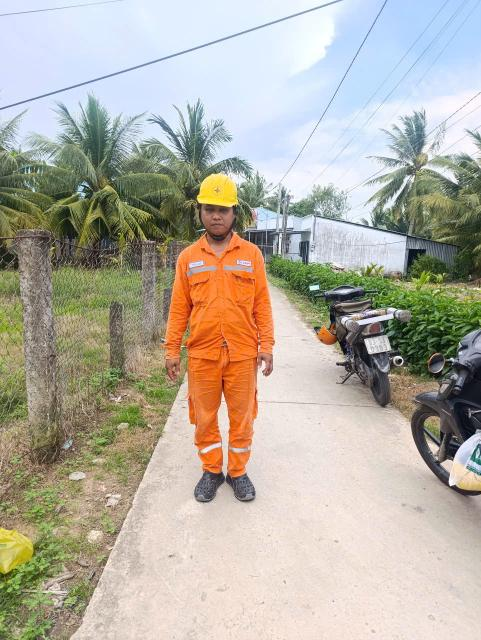helmet: (194, 171, 249, 208)
shoes: (218, 464, 265, 512), (186, 458, 226, 508)
